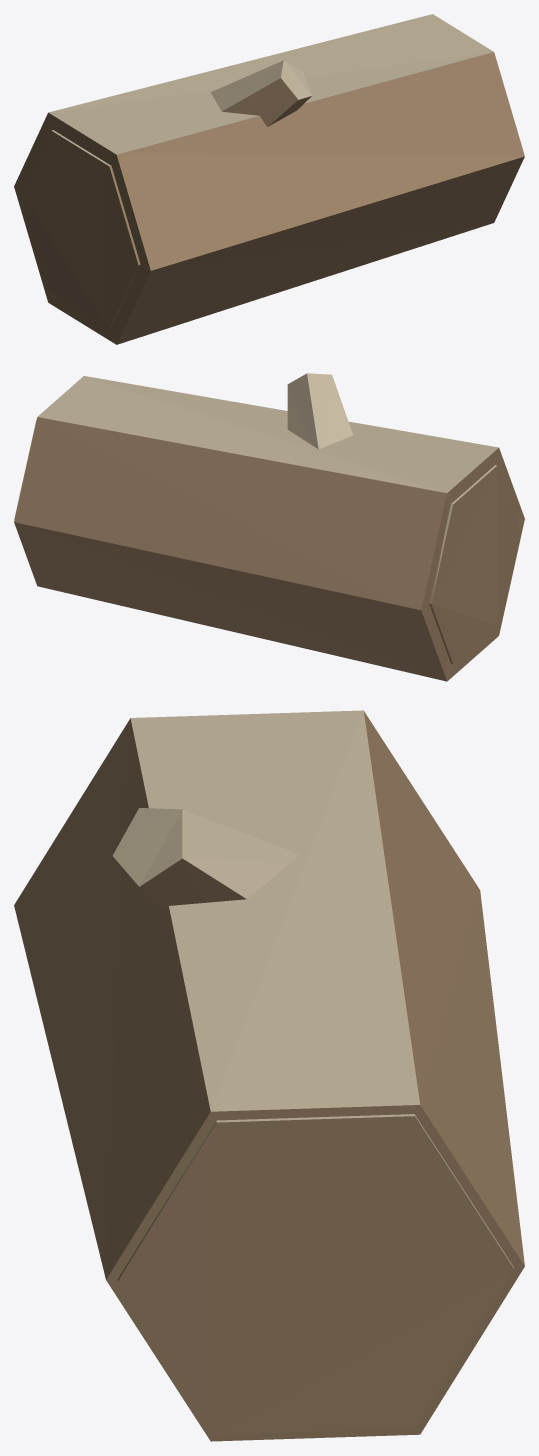
Rendered from log-00.glb.
The picture shows the model from 3 angles, top to bottom: view 1: azimuth 30°, elevation 25°; view 2: azimuth 150°, elevation 25°; view 3: azimuth 270°, elevation 25°; orthographic projection. The views are drawn at different scales.
Parts seen in each view (by area): view 1: log_00; view 2: log_00; view 3: log_00.
Part boxes in pixels (x1,y1,x2,y2): log_00: (14,14,524,344); log_00: (14,373,524,681); log_00: (14,710,524,1441).
Bounding box in the file's own units: 1.13 × 0.5974 × 0.621.
